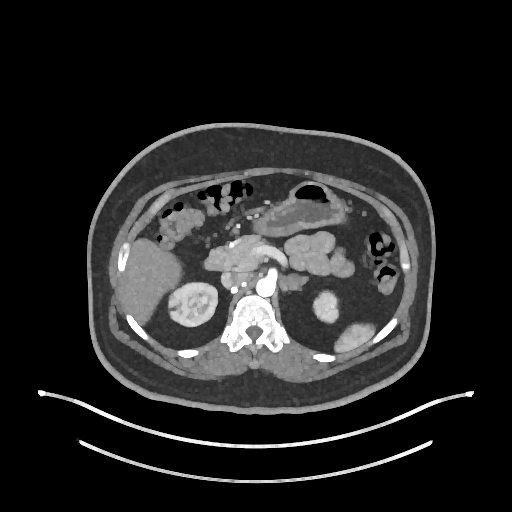Lesion: (166, 300, 181, 316)
